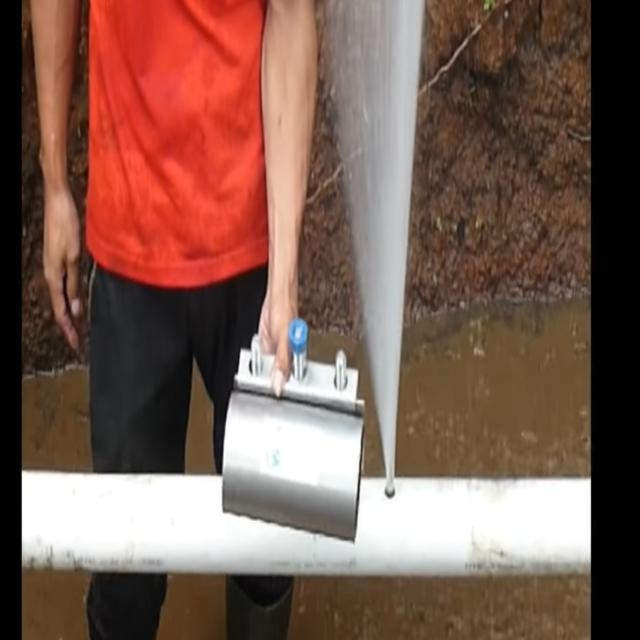leak: (329, 0, 424, 498)
